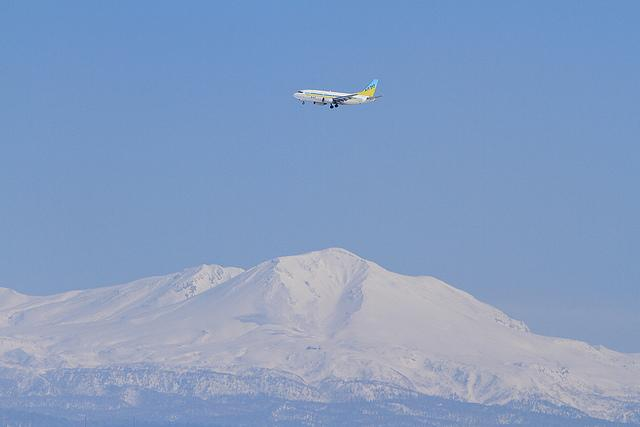airplane: (291, 77, 385, 109)
